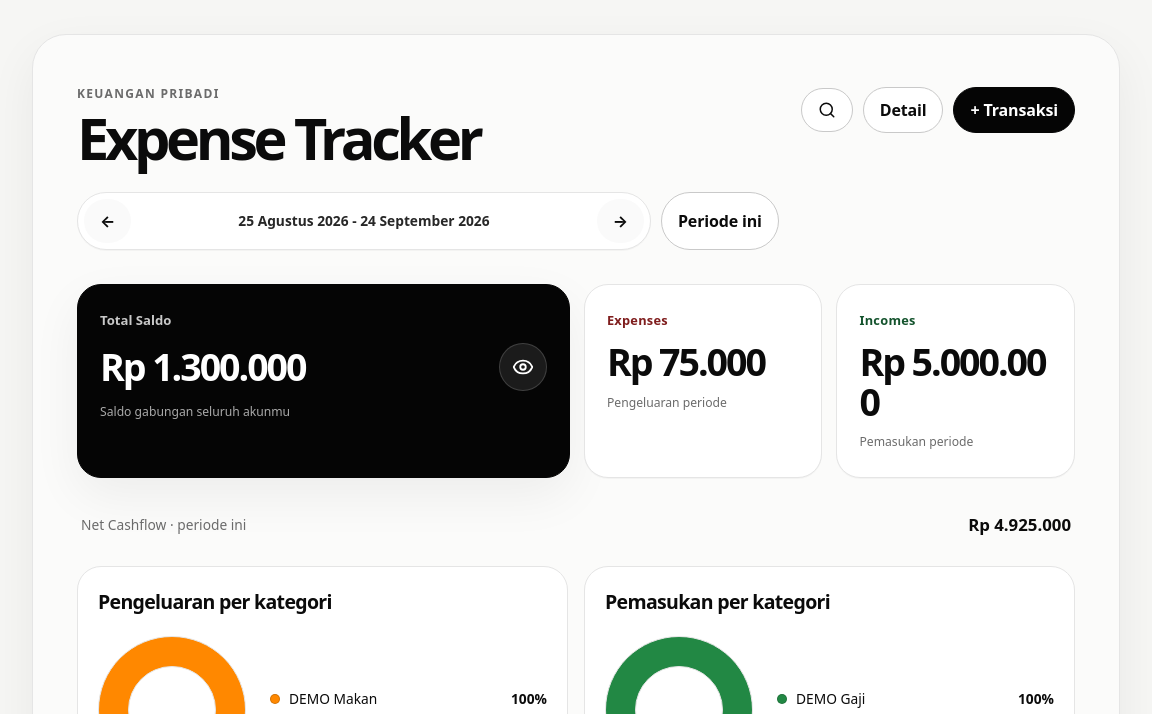
Test: React finance frontend › shows a calendar date for new transactions and keeps the saved date while editing
The width and height of the screenshot is (1152, 714).
Click the button "+ Transaksi" at (1014, 110), box [954,87,1075,133]
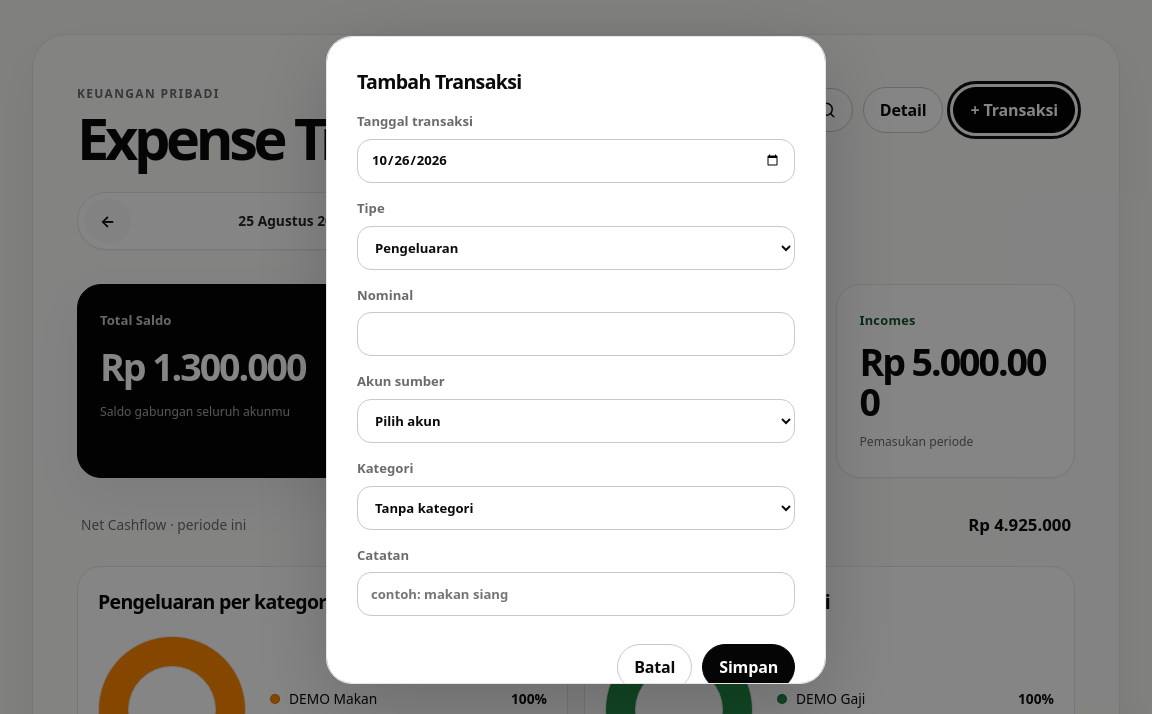
Click the button "Batal" at (655, 667), box [617,644,692,690]
(page scrolled)
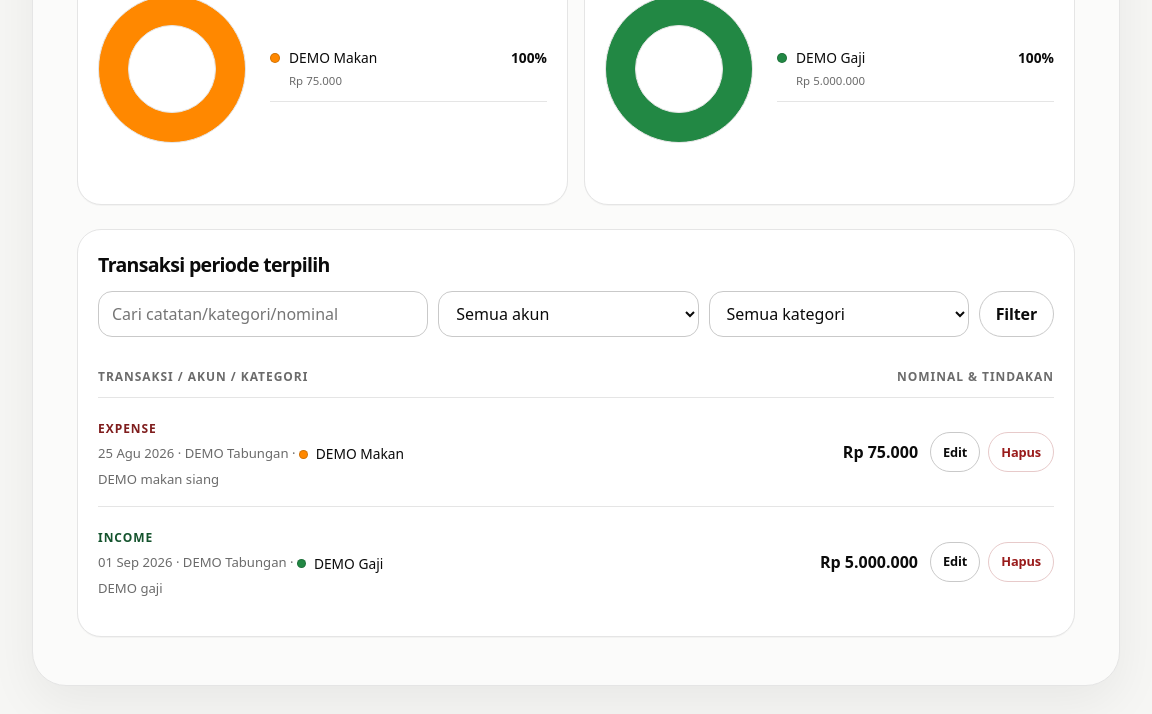
Click the button "Edit" in the row of "DEMO makan siang" at (955, 452), box [930,432,980,472]
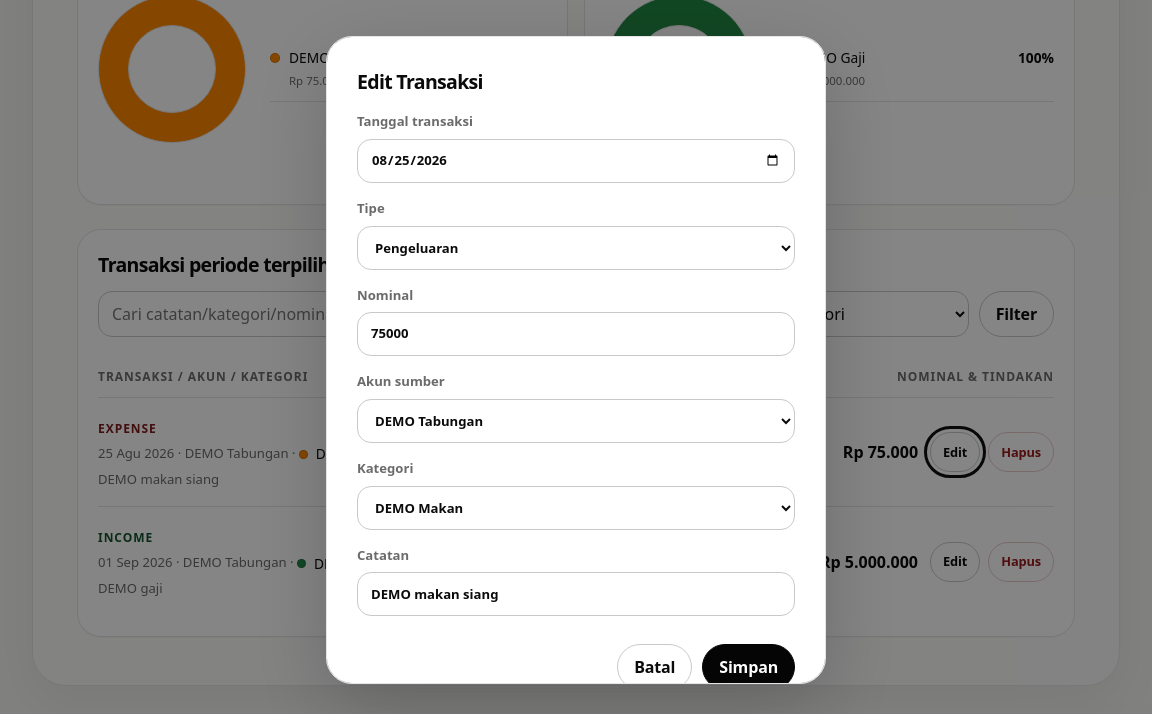
Expected: the heading "Edit Transaksi" is shown, [357,68,483,95]
Expected: the date field labelled "Tanggal transaksi" holds "2026-08-25", [357,139,795,183]
